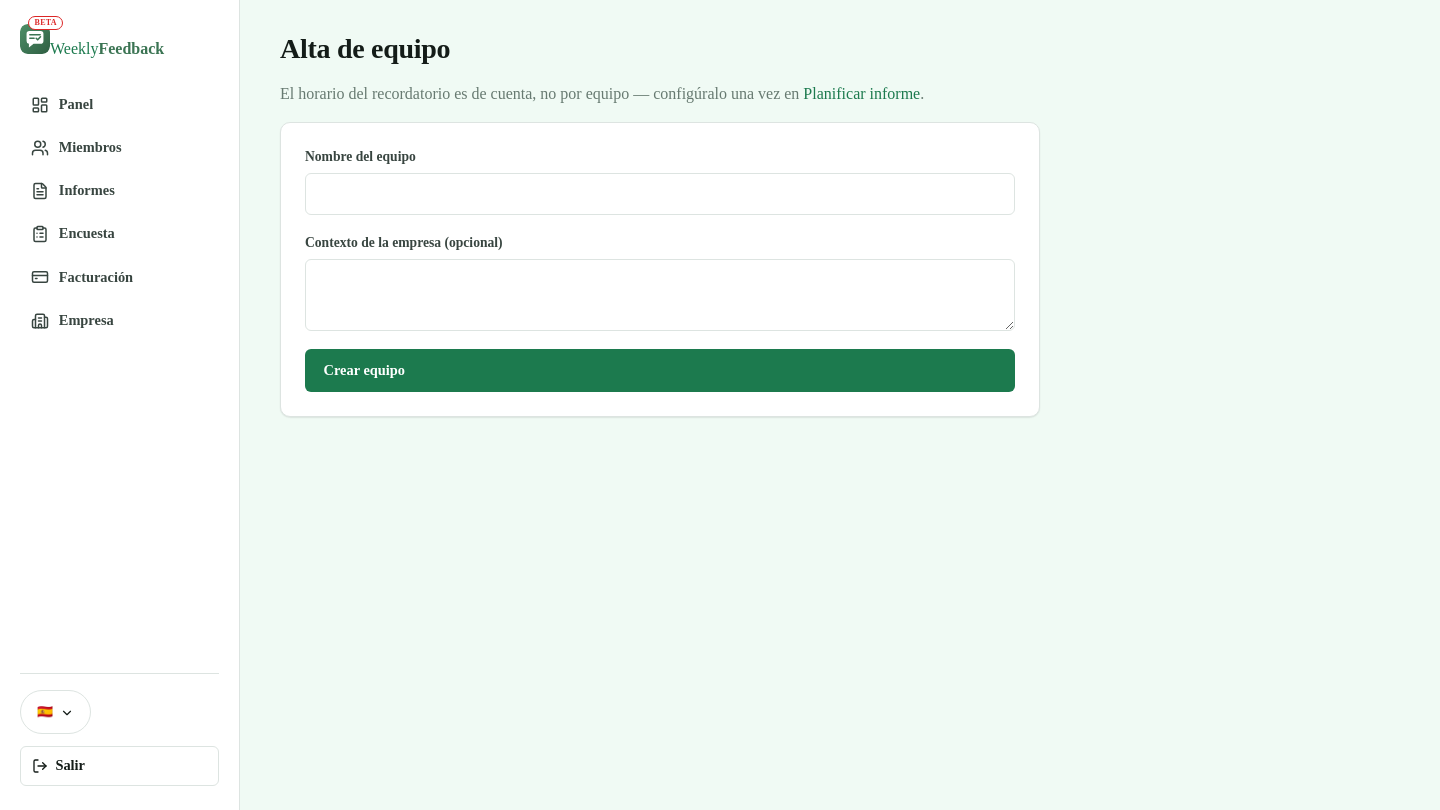
Test: OnboardingPage — paso 2: alta de miembros del equipo recién creado › se pueden añadir varios miembros, todos quedan listados
Type "Producto" into the field labelled "Nombre del equipo" at (660, 194), box [305,173,1015,215]
Click the button "Crear equipo" at (364, 370), box [305,349,1015,392]
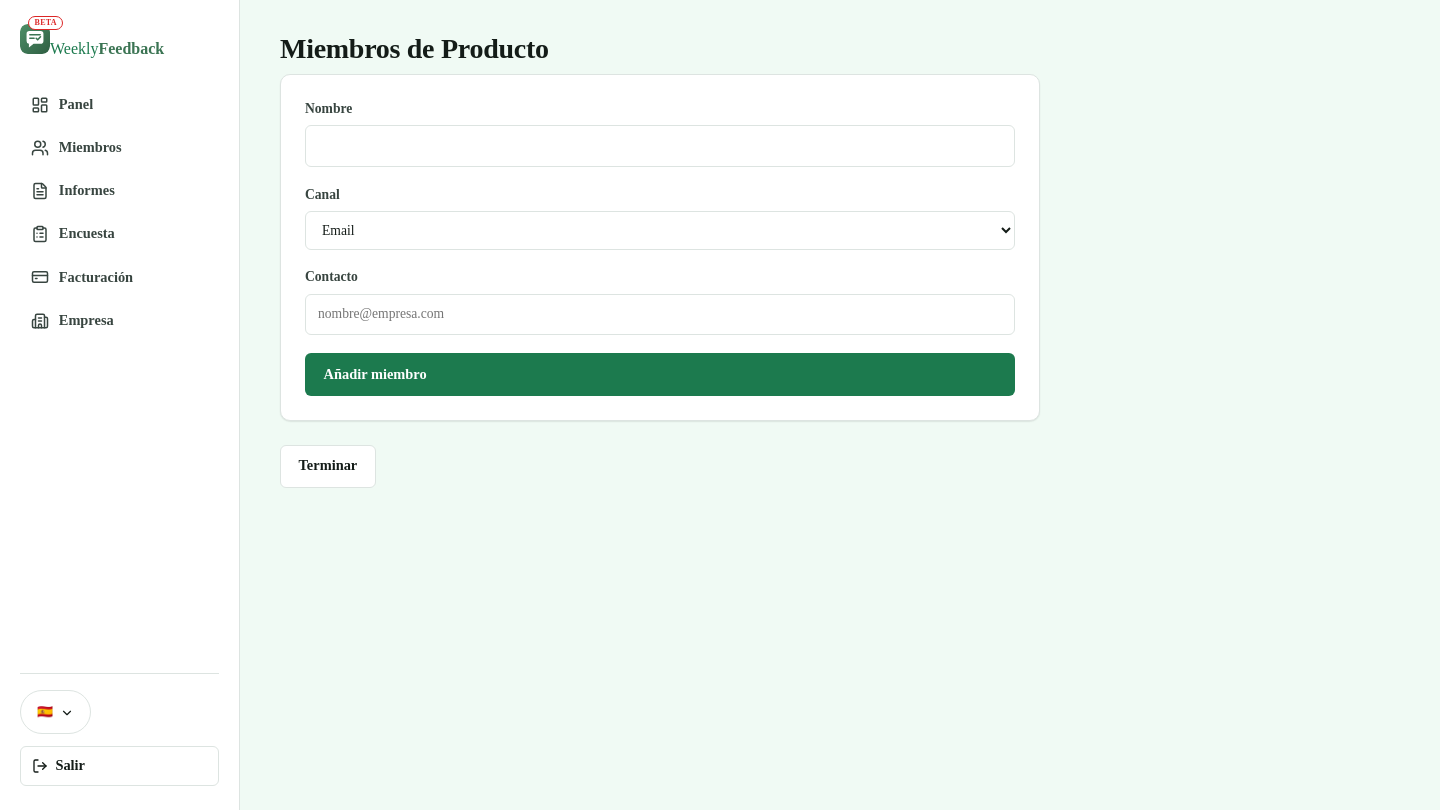
Type "Ana" into the field labelled "Nombre" at (660, 146), box [305,125,1015,167]
Type "ana@example.com" into the field with placeholder "nombre@empresa.com" at (660, 315), box [305,294,1015,336]
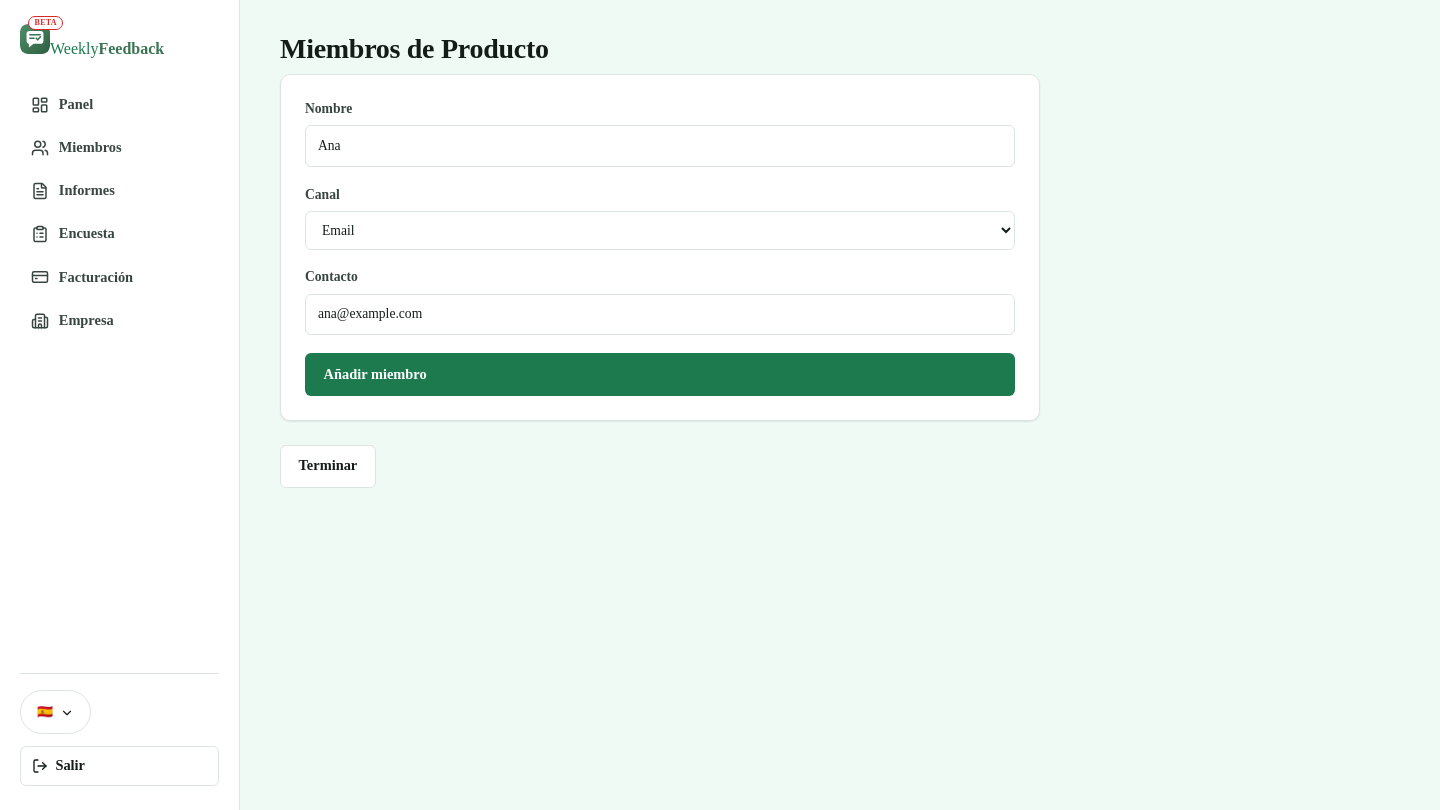
Click the button "Añadir miembro" at (375, 374), box [305,353,1015,396]
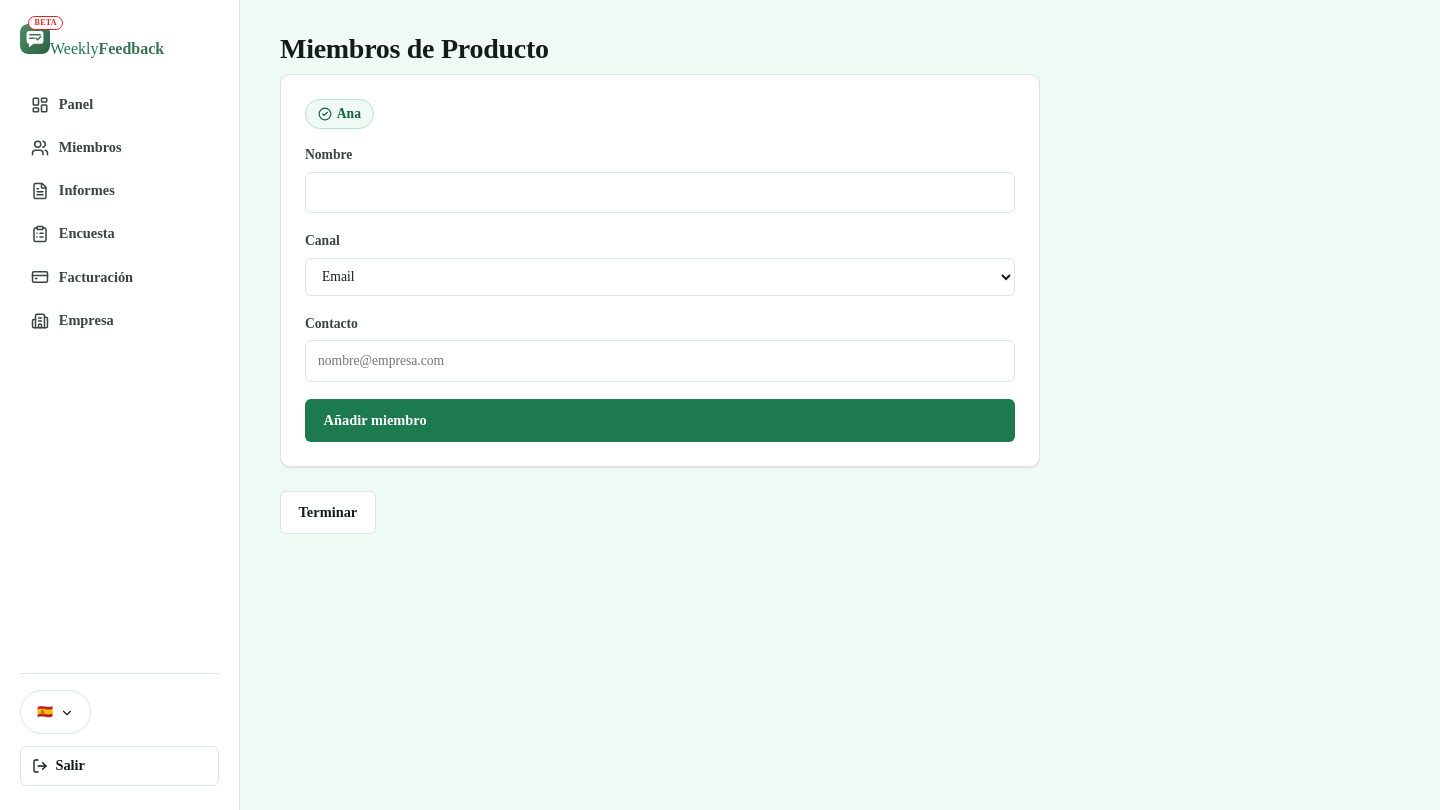
Expected: the list item "Ana" is shown, [305,99,374,129]
Type "Bruno" into the field labelled "Nombre" at (660, 193), box [305,172,1015,213]
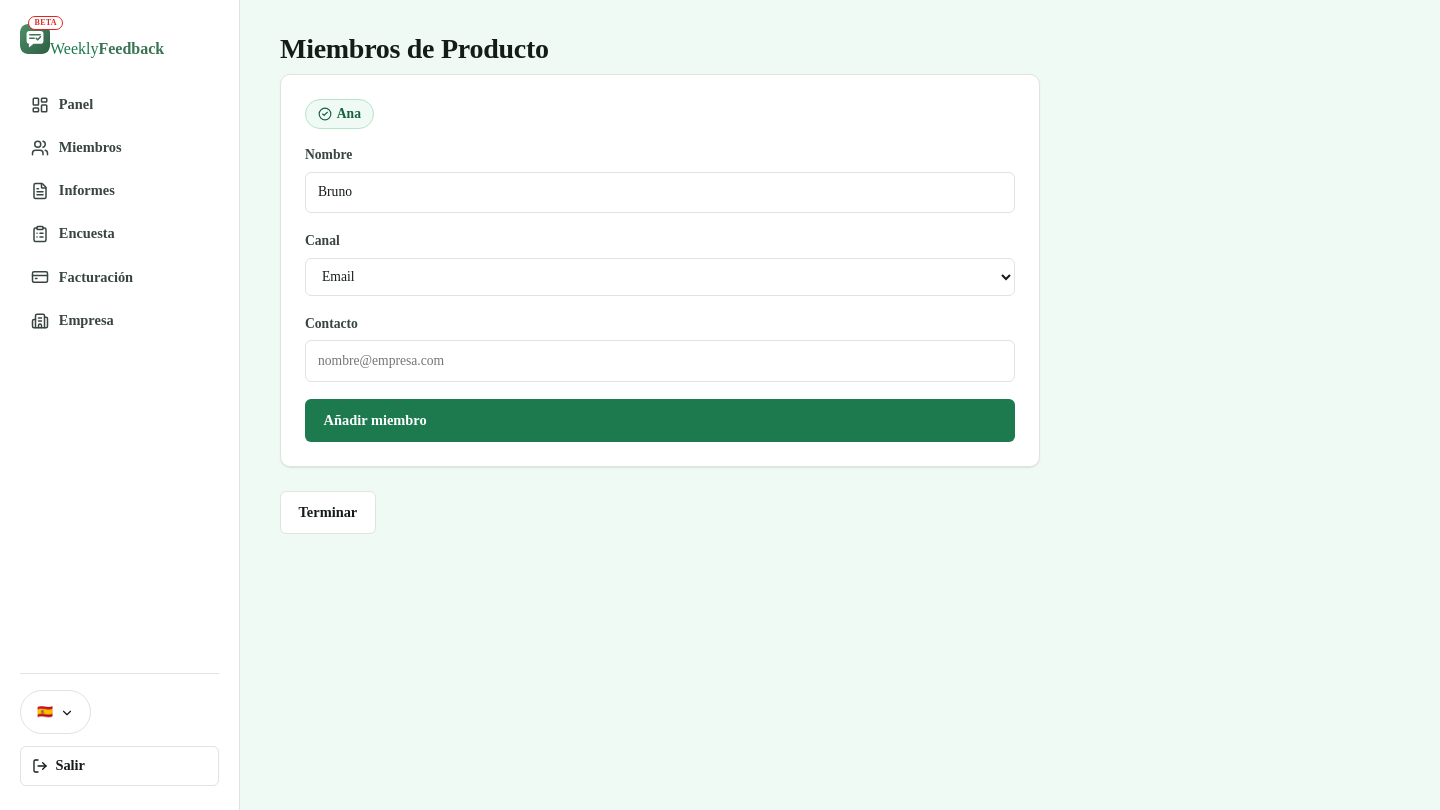
Type "bruno@example.com" into the field with placeholder "nombre@empresa.com" at (660, 361), box [305,340,1015,382]
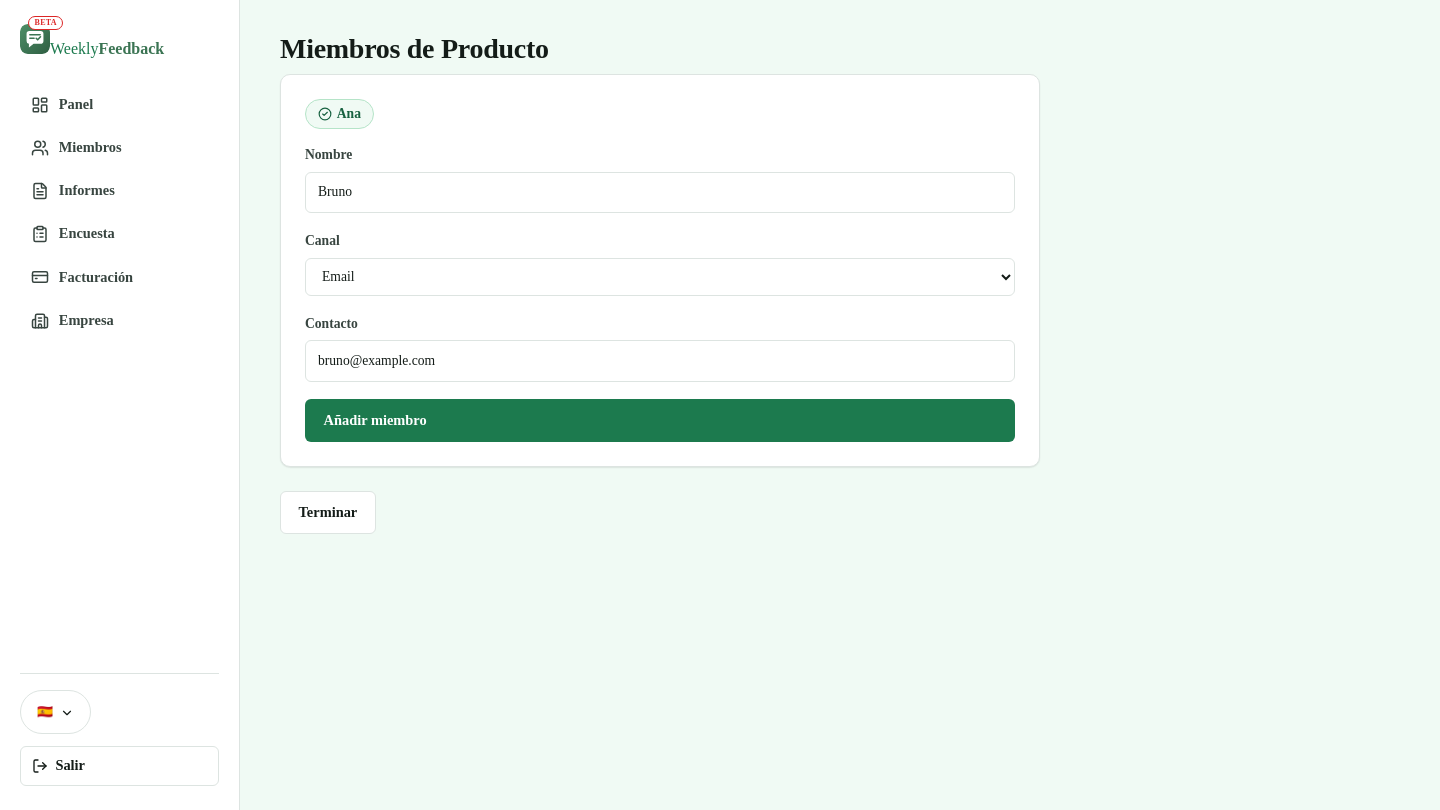
Click the button "Añadir miembro" at (375, 420), box [305,400,1015,442]
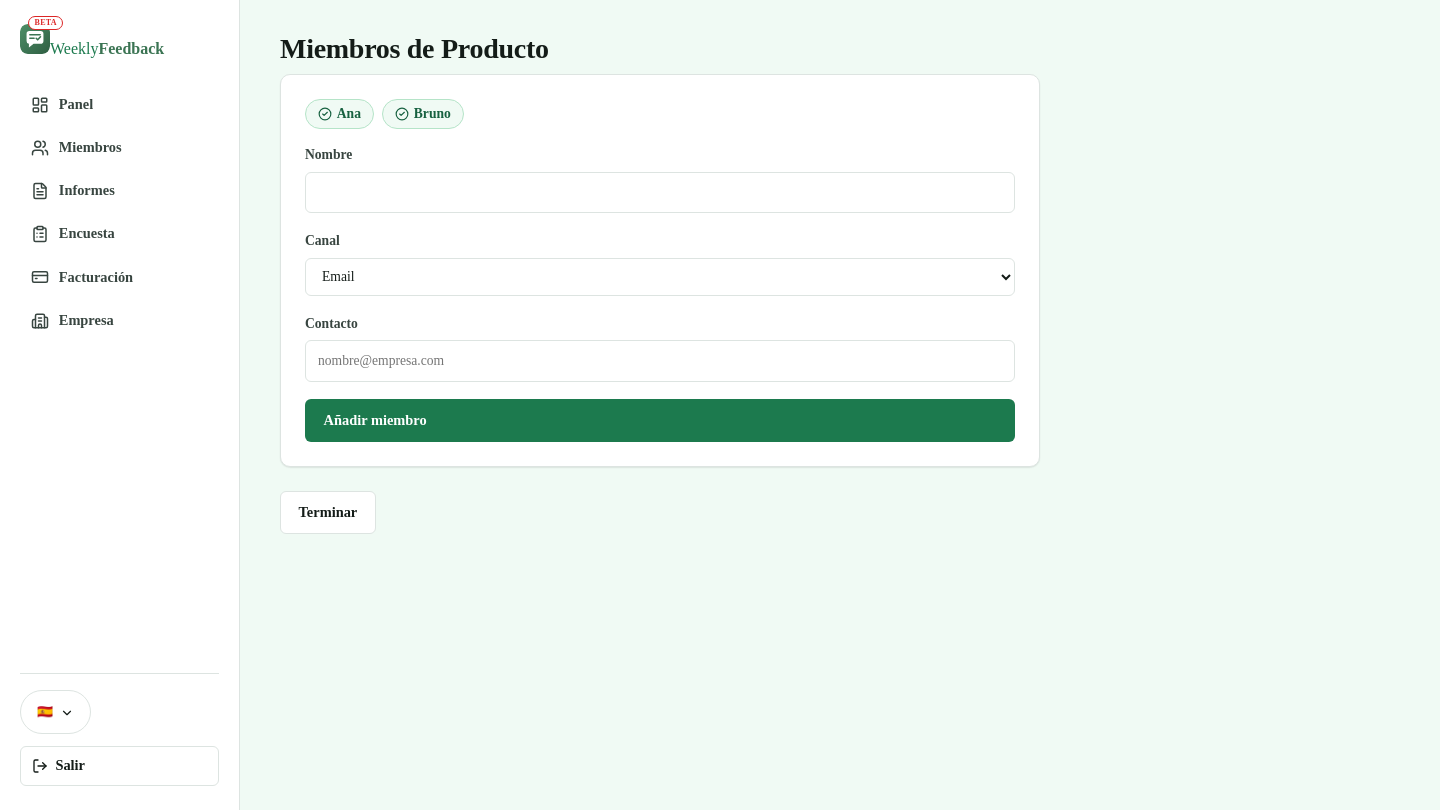
Expected: the list item "Ana" is shown, [305,99,374,129]
Expected: the list item "Bruno" is shown, [382,99,464,129]
